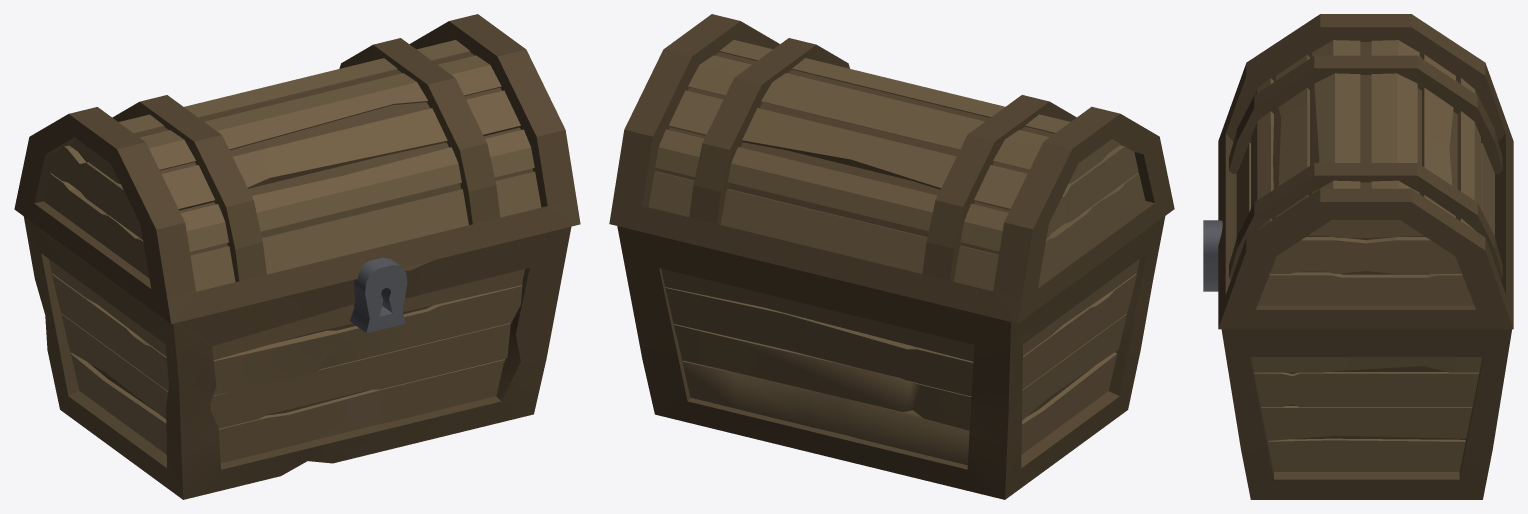
File: Chest_Gold.glb
3 renders of one model, left to right at view 1: azimuth 30°, elevation 25°; view 2: azimuth 150°, elevation 25°; view 3: azimuth 270°, elevation 25°, orthographic. The views are drawn at different scales.
Visible parts, largest first — view 1: Chest_Gold_Top, Chest_Gold_Base; view 2: Chest_Gold_Top, Chest_Gold_Base; view 3: Chest_Gold_Top, Chest_Gold_Base.
Boxes of the visible parts, x1,y1,x2,y2 form: Chest_Gold_Top: (14, 14, 580, 324); Chest_Gold_Base: (23, 216, 571, 499); Chest_Gold_Top: (609, 14, 1174, 323); Chest_Gold_Base: (617, 216, 1165, 499); Chest_Gold_Top: (1218, 14, 1513, 329); Chest_Gold_Base: (1203, 220, 1511, 499).
Bounding box in the file's own units: 1.18 × 0.9106 × 0.8223.
